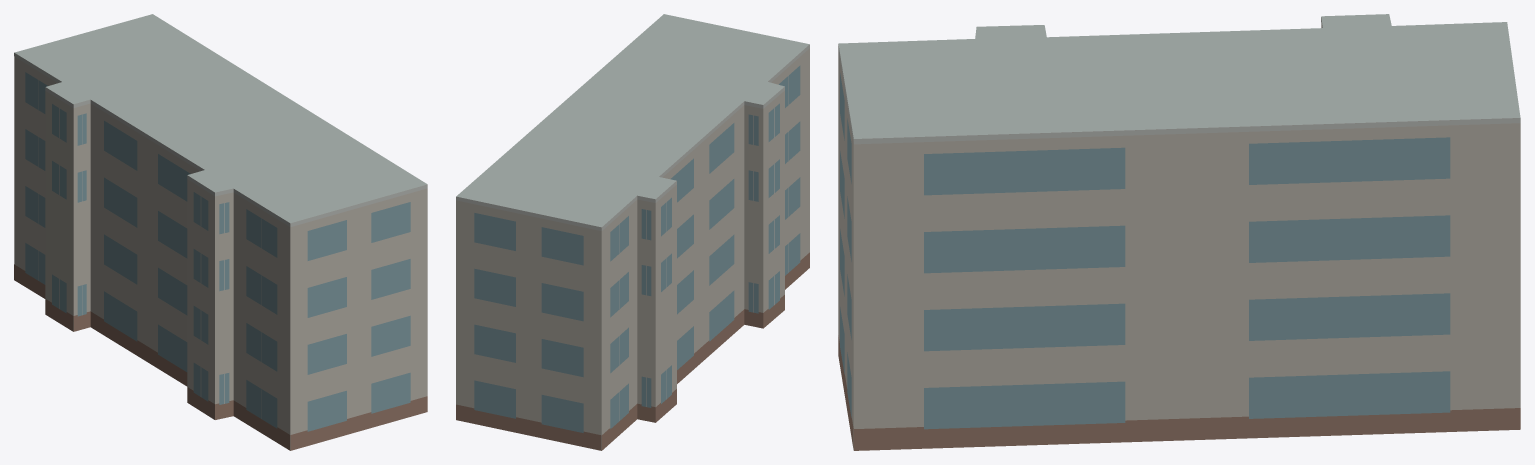
The model's file is survey-upis-32757705.glb.
The picture shows the model from 3 angles, left to right: view 1: azimuth 30°, elevation 25°; view 2: azimuth 150°, elevation 25°; view 3: azimuth 270°, elevation 25°; orthographic projection. The views are drawn at different scales.
Parts seen in each view (by area): view 1: survey-upis-32757705.tmp; view 2: survey-upis-32757705.tmp; view 3: survey-upis-32757705.tmp.
Boxes of the visible parts, x1=… form: survey-upis-32757705.tmp: x1=14, y1=14, x2=427, y2=450; survey-upis-32757705.tmp: x1=456, y1=14, x2=809, y2=450; survey-upis-32757705.tmp: x1=838, y1=14, x2=1520, y2=450.
Size of the model in its own units: 12.31 by 14.3 by 28.36.
